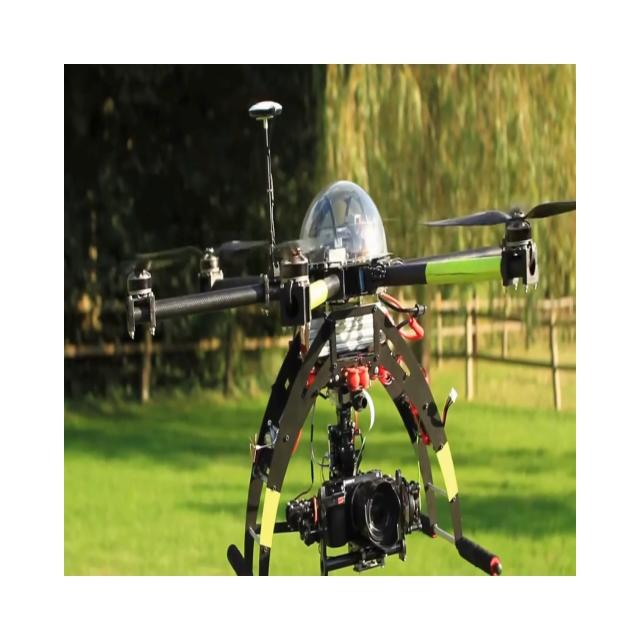drone: (124, 99, 575, 576)
